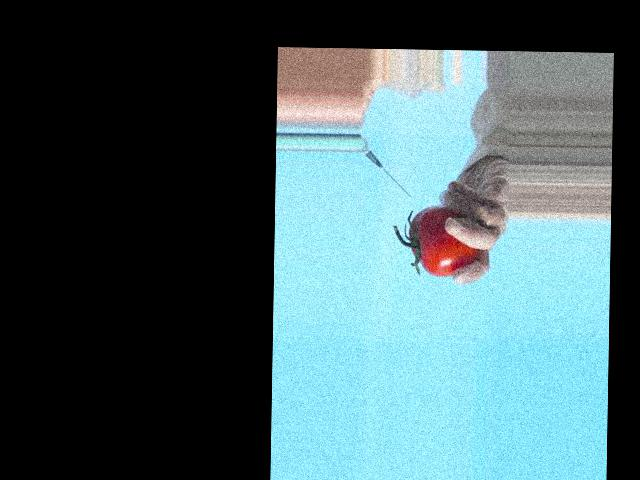tomato: (409, 206, 479, 277)
